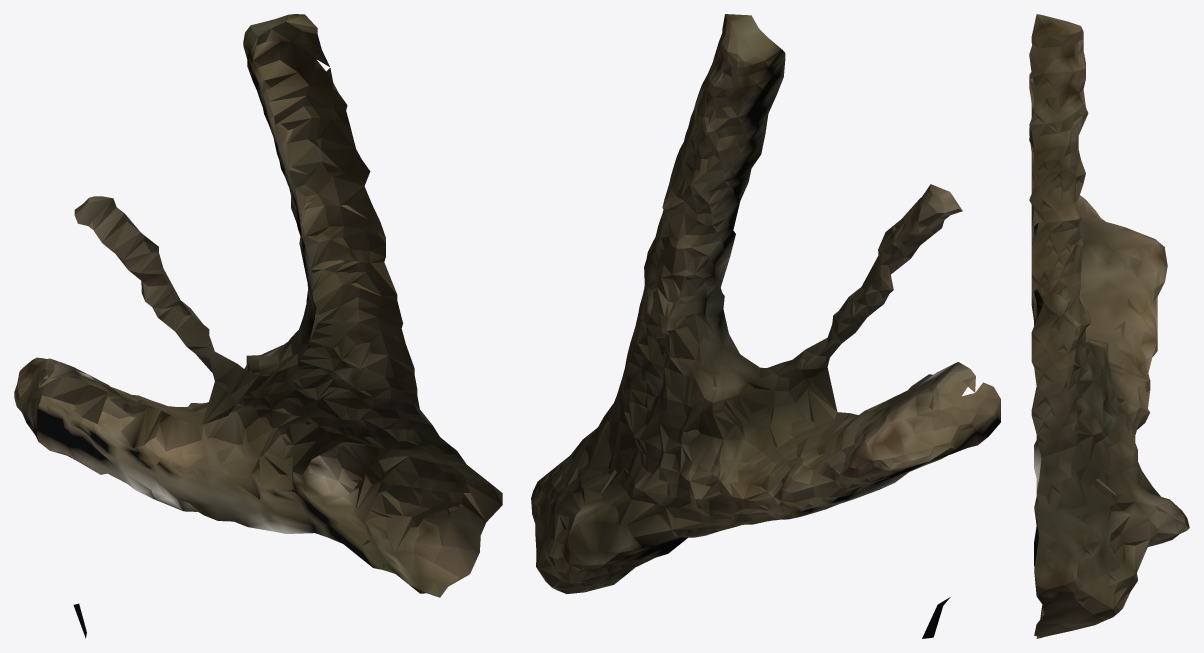
Rendered from Downsampled_0.dae.
The picture shows the model from 3 angles, left to right: view 1: azimuth 30°, elevation 25°; view 2: azimuth 150°, elevation 25°; view 3: azimuth 270°, elevation 25°; orthographic projection. The views are drawn at different scales.
Parts seen in each view (by area): view 1: node; view 2: node; view 3: node.
Boxes of the visible parts, box(x1,y1,x2,y2) form: node: box(14, 14, 502, 638); node: box(531, 14, 1000, 638); node: box(1029, 14, 1189, 638).
Size of the model in its own units: 0.1981 by 0.2487 by 0.065.
